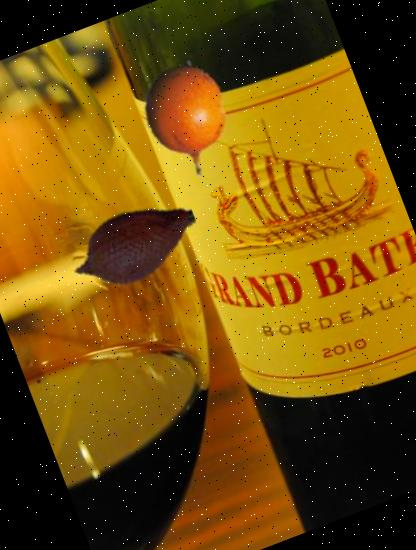Granadilla: (113, 45, 262, 194)
Salak: (48, 159, 221, 332)
